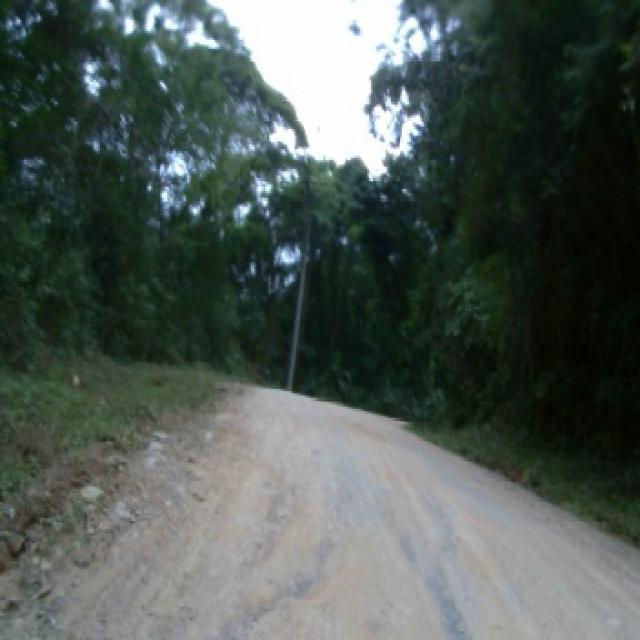Poth-hole: (167, 474, 349, 636), (398, 491, 473, 636)
